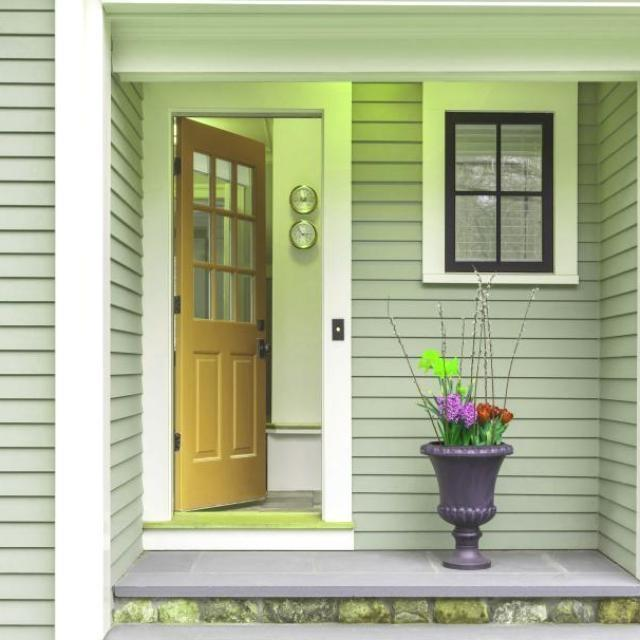door: (173, 116, 268, 511)
